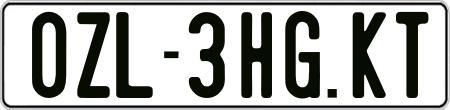0: (30, 11, 69, 103)
3: (187, 11, 229, 103)
G: (285, 8, 320, 98)
H: (238, 12, 272, 101)
K: (352, 11, 391, 98)
L: (116, 9, 157, 101)
T: (394, 9, 430, 96)
Z: (75, 12, 111, 98)
